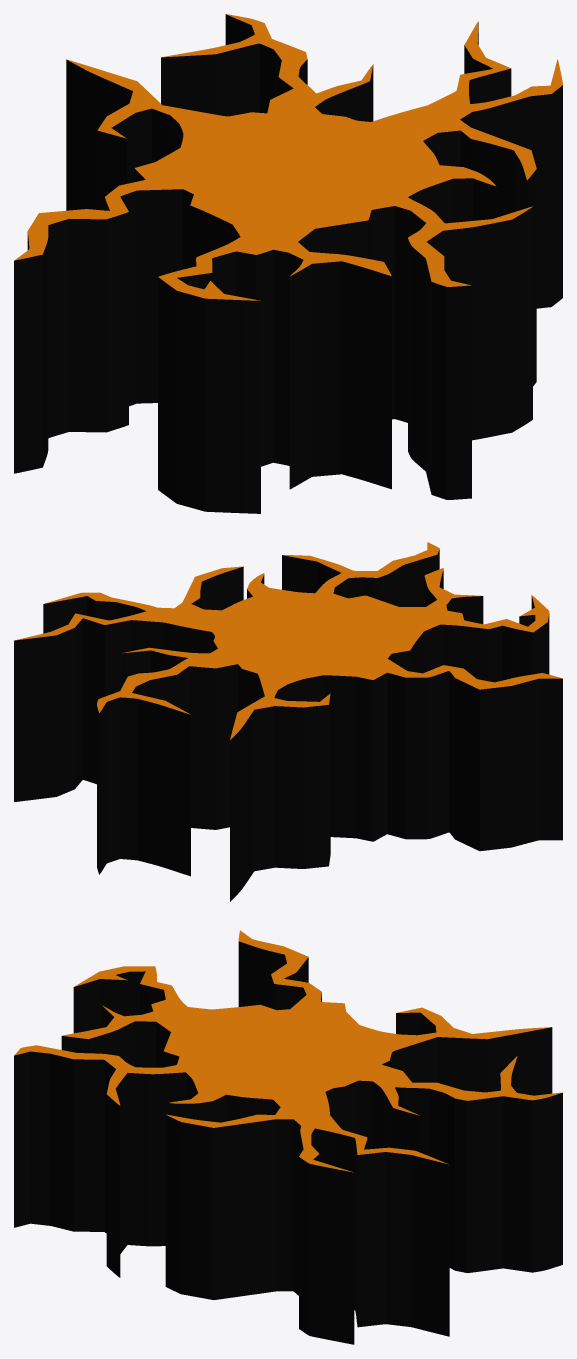
The model's file is Crack.fbx.
3 renders of one model, top to bottom at view 1: azimuth 30°, elevation 25°; view 2: azimuth 150°, elevation 25°; view 3: azimuth 270°, elevation 25°, orthographic. The views are drawn at different scales.
Visible parts, largest first — view 1: Bottom, Top; view 2: Bottom, Top; view 3: Bottom, Top.
Part boxes in pixels (left/top/right/bottom): Bottom: left=14, top=14, right=562, bottom=513; Top: left=14, top=14, right=562, bottom=300; Bottom: left=14, top=543, right=562, bottom=901; Top: left=16, top=542, right=562, bottom=740; Bottom: left=14, top=941, right=562, bottom=1344; Top: left=14, top=930, right=561, bottom=1172.
Size of the model in its own units: 12.07 by 4 by 11.56.
